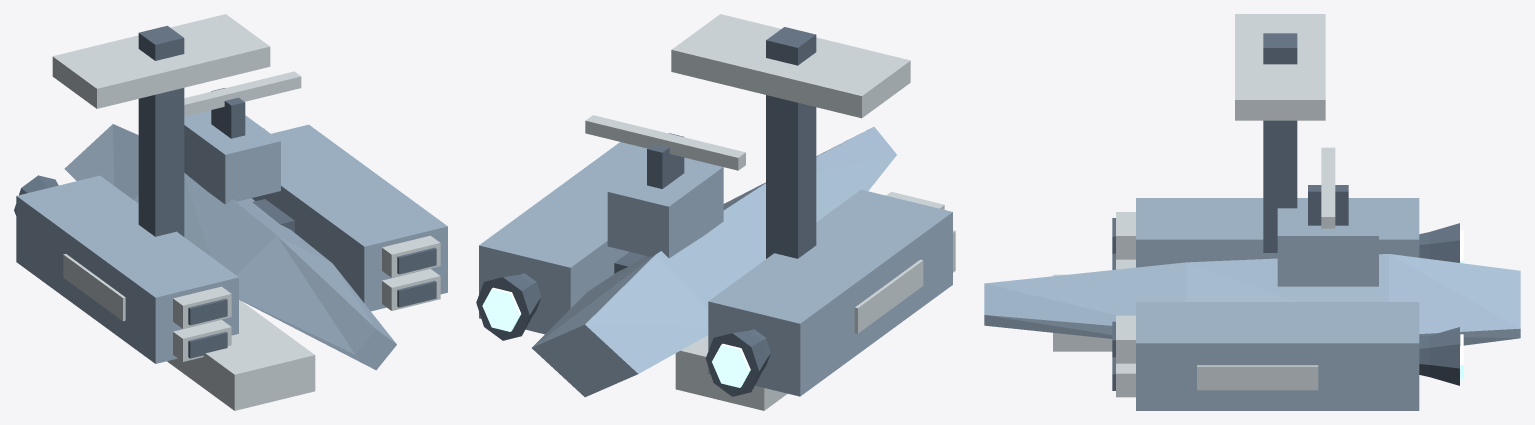
3 renders of one model, left to right at view 1: azimuth 30°, elevation 25°; view 2: azimuth 150°, elevation 25°; view 3: azimuth 270°, elevation 25°, orthographic. The views are drawn at different scales.
Size of the model in its own units: 6.34 by 5.65 by 9.47.
